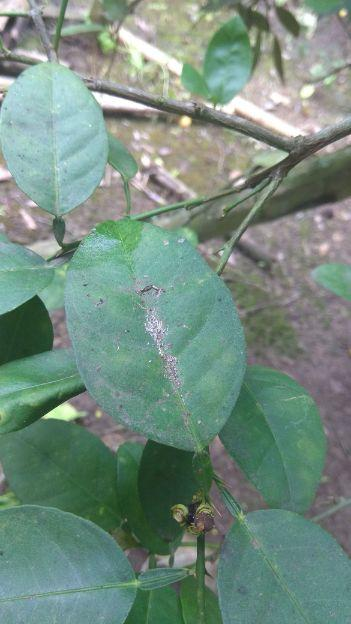Myzus persicae: (145, 308, 180, 389)
